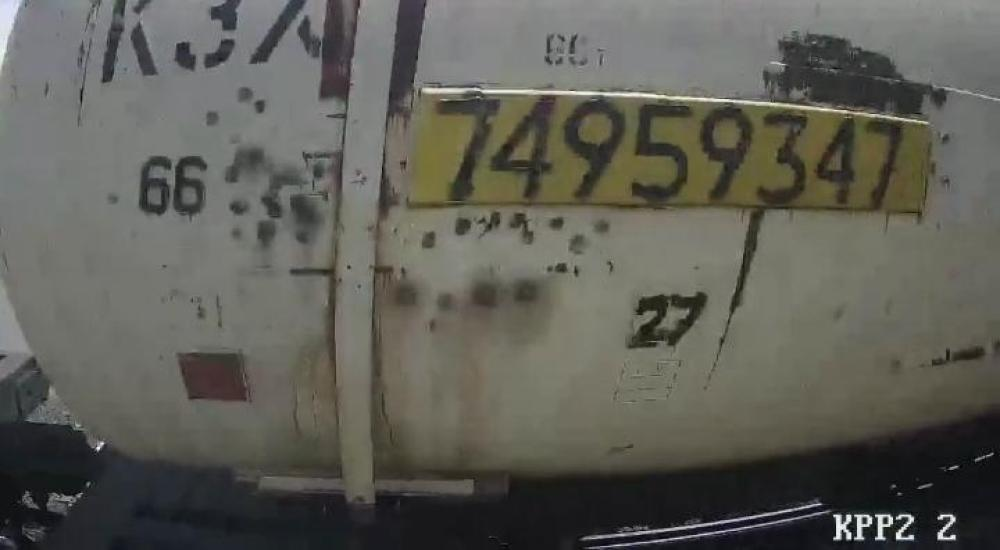Wagon-number: (428, 90, 908, 216)
